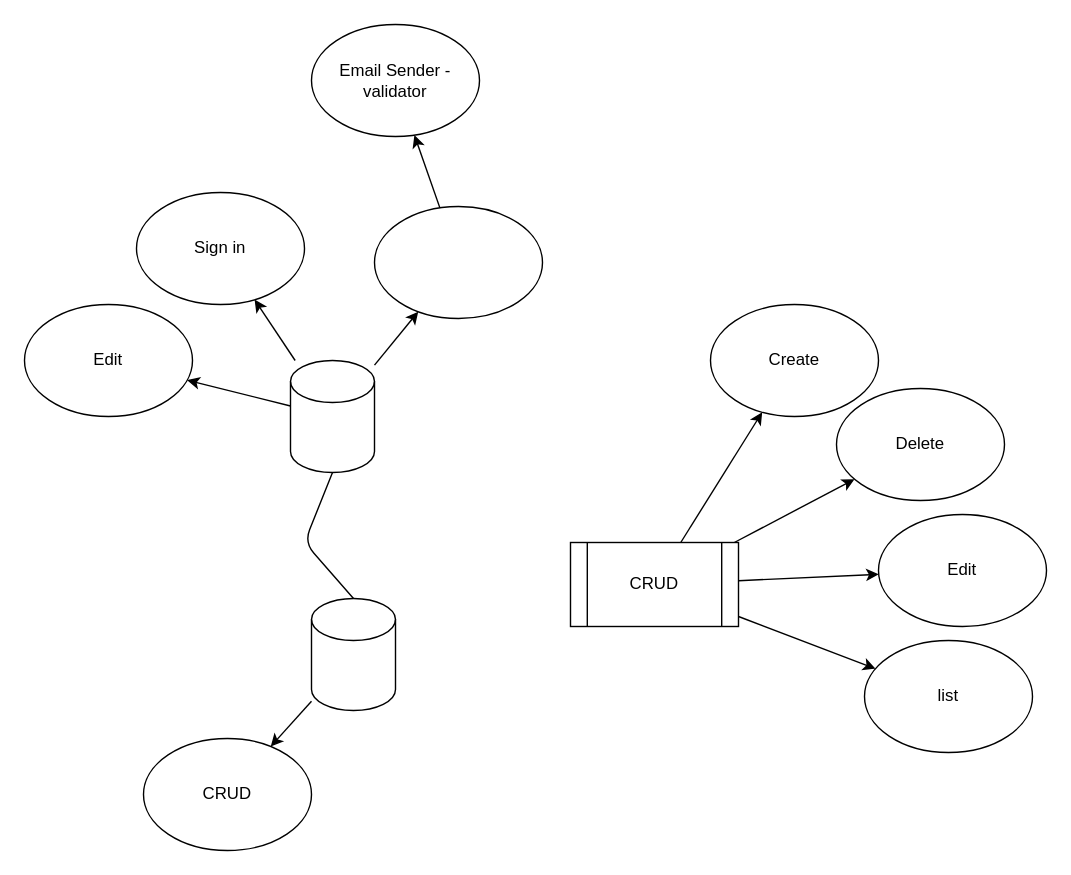
The diagram is 1071 pixels wide and 875 high, and some of its shapes have lost their labels. Here are the shapes that lost their labels. From the top down, the box of each, then its label:
(373, 205, 542, 318): sign up
(289, 359, 374, 472): Users
(310, 597, 396, 710): Story
